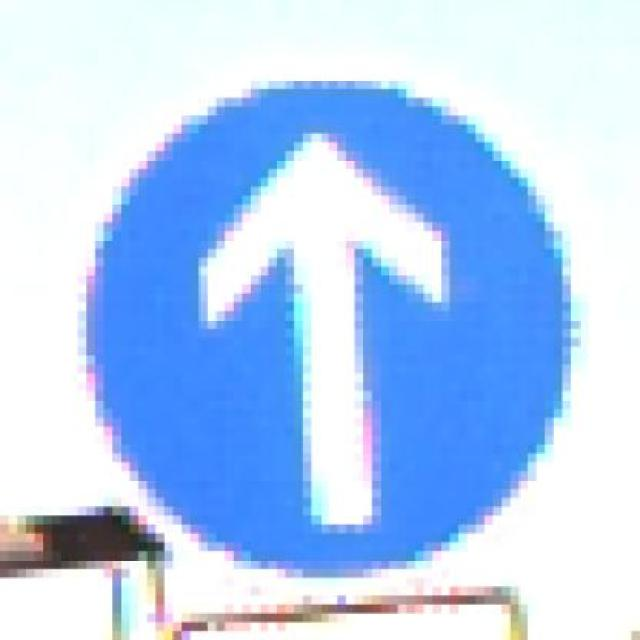Straight Ahead Only: (61, 71, 588, 578)
